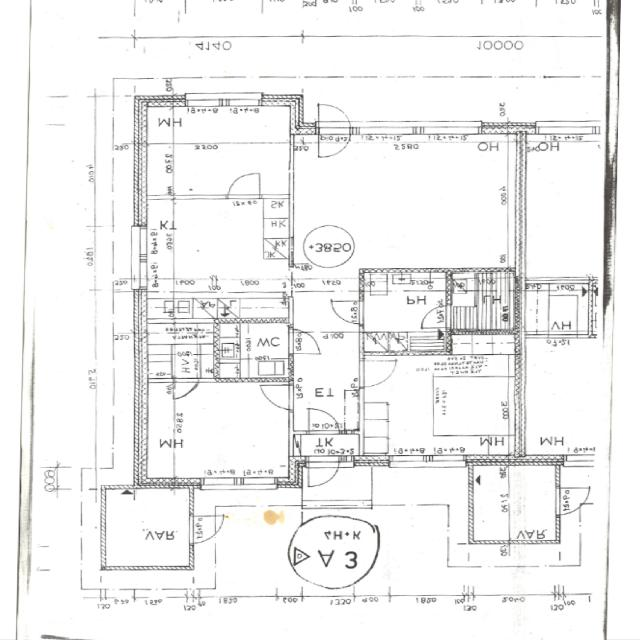door: (319, 123, 350, 160), (319, 97, 350, 134), (310, 455, 340, 490), (190, 516, 227, 543), (228, 168, 260, 199), (359, 361, 396, 386), (289, 329, 324, 354), (309, 406, 340, 434), (258, 386, 294, 410), (332, 301, 364, 324), (420, 306, 451, 328), (174, 378, 199, 402)
